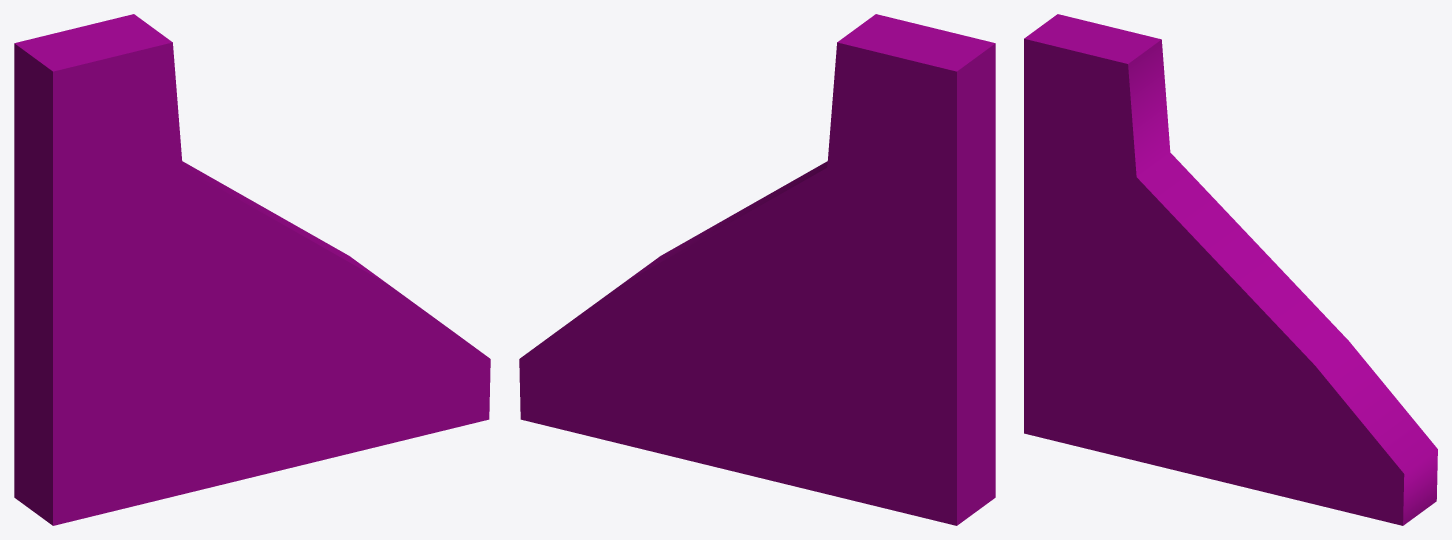
The model's file is Collider_Broken_Wall_001.fbx.
3 renders of one model, left to right at view 1: azimuth 30°, elevation 25°; view 2: azimuth 150°, elevation 25°; view 3: azimuth 330°, elevation 25°, orthographic. The views are drawn at different scales.
Visible parts, largest first — view 1: Collider_Broken_Wall_001; view 2: Collider_Broken_Wall_001; view 3: Collider_Broken_Wall_001.
Part boxes in pixels (bbox=[...]): Collider_Broken_Wall_001: bbox=[14, 14, 490, 525]; Collider_Broken_Wall_001: bbox=[519, 14, 995, 525]; Collider_Broken_Wall_001: bbox=[1024, 14, 1437, 525].
Size of the model in its own units: 3.02 by 2.99 by 0.4637.
